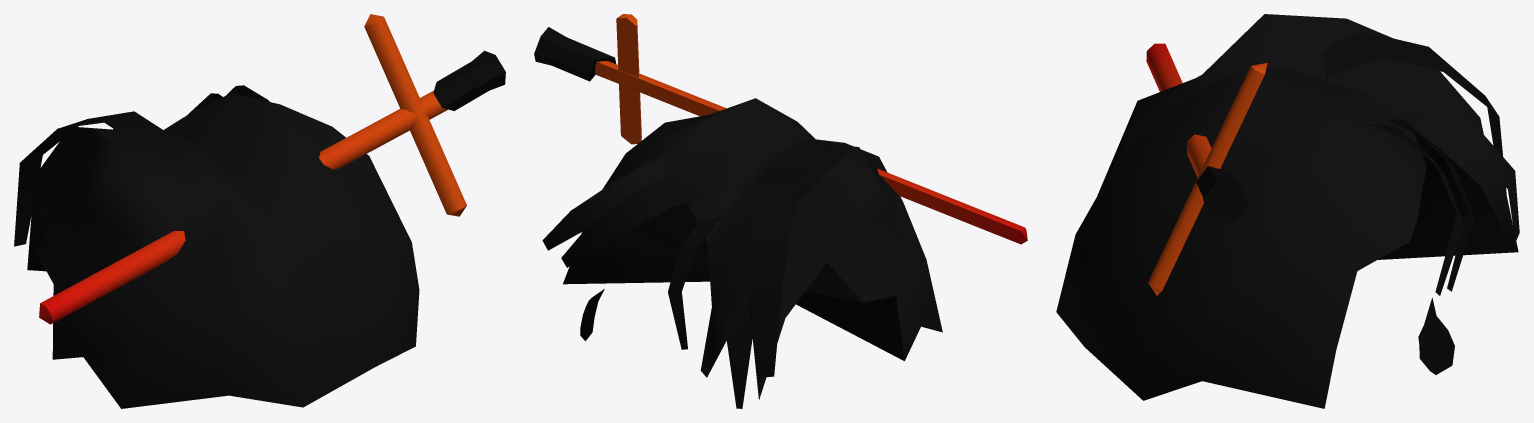
File: hat_spaceEmo.glb
3 renders of one model, left to right at view 1: azimuth 30°, elevation 25°; view 2: azimuth 150°, elevation 25°; view 3: azimuth 270°, elevation 25°, orthographic. The views are drawn at different scales.
Visible parts, largest first — view 1: hat_spaceEmo; view 2: hat_spaceEmo; view 3: hat_spaceEmo.
Boxes of the visible parts, x1,y1,x2,y2 form: hat_spaceEmo: (14, 14, 505, 408); hat_spaceEmo: (534, 14, 1027, 408); hat_spaceEmo: (1056, 14, 1519, 408).
Bounding box in the file's own units: 0.7305 × 0.4176 × 0.5113.
